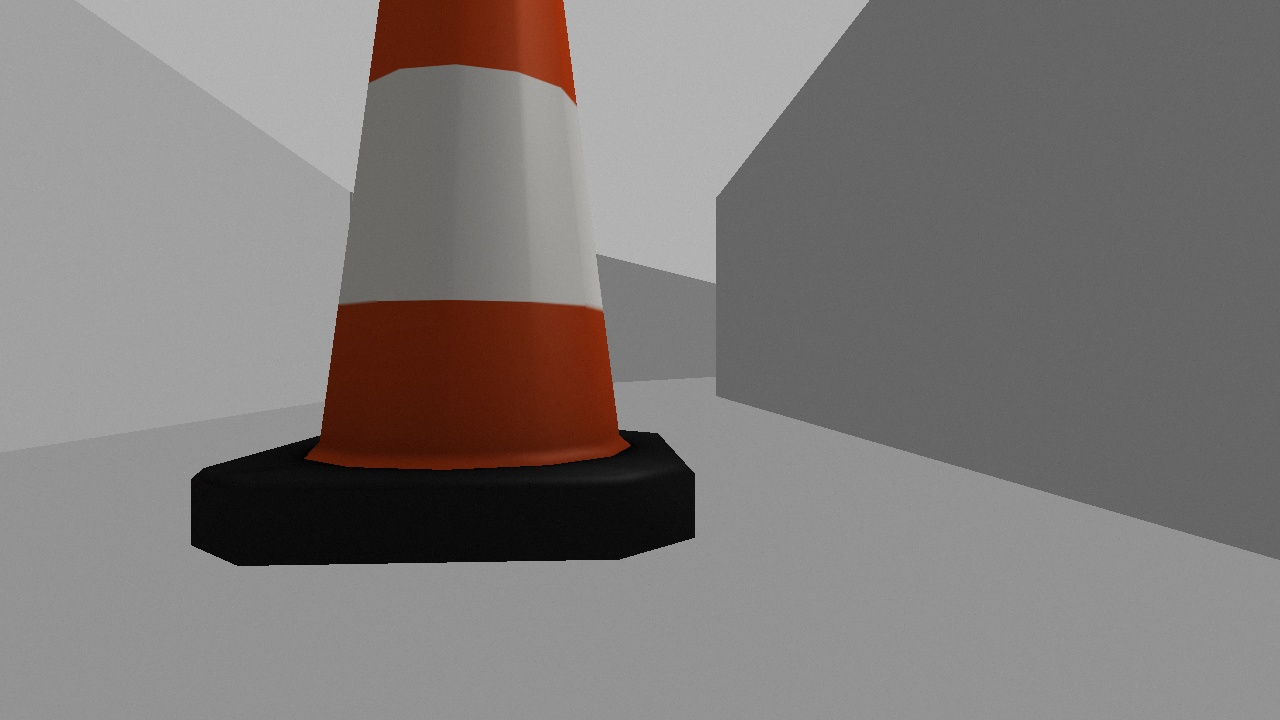barricade: (166, 1, 719, 582)
